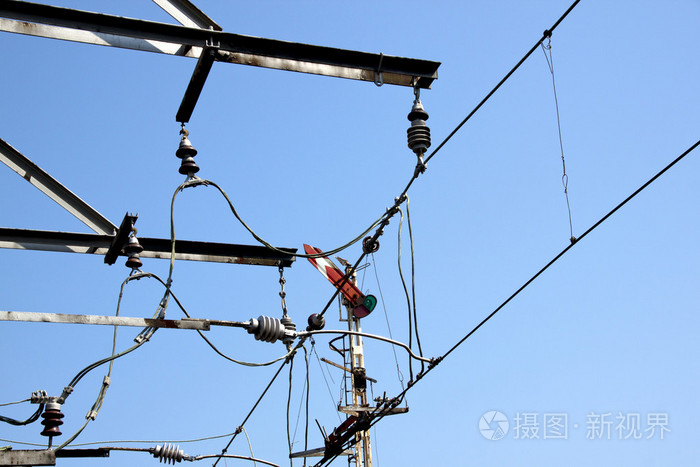insulator: (252, 315, 280, 345), (174, 144, 200, 174), (39, 407, 63, 437), (405, 125, 434, 149), (155, 439, 179, 467), (125, 241, 143, 269)
